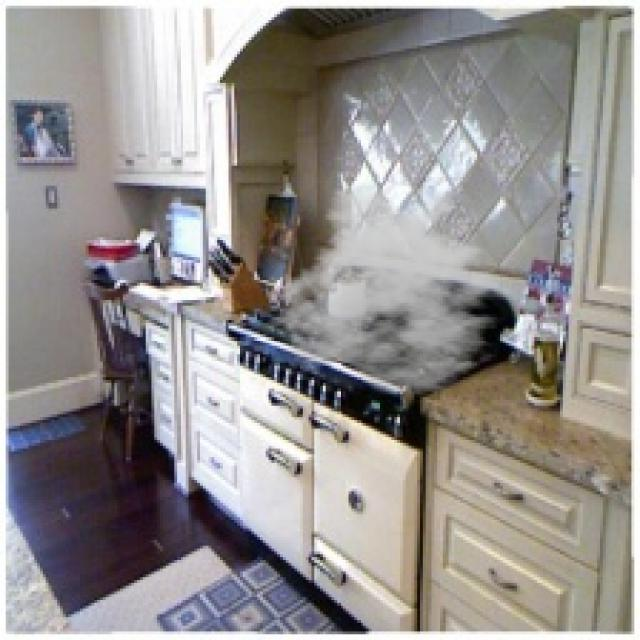smoke: (266, 183, 528, 397)
